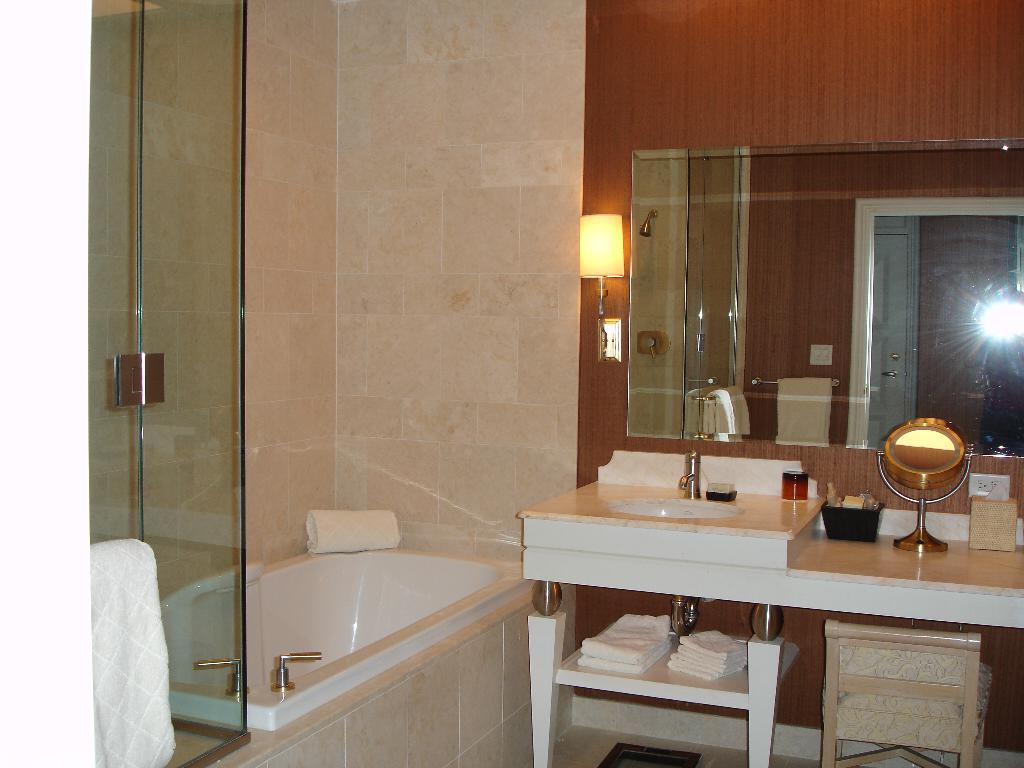tap: (675, 451, 696, 496)
